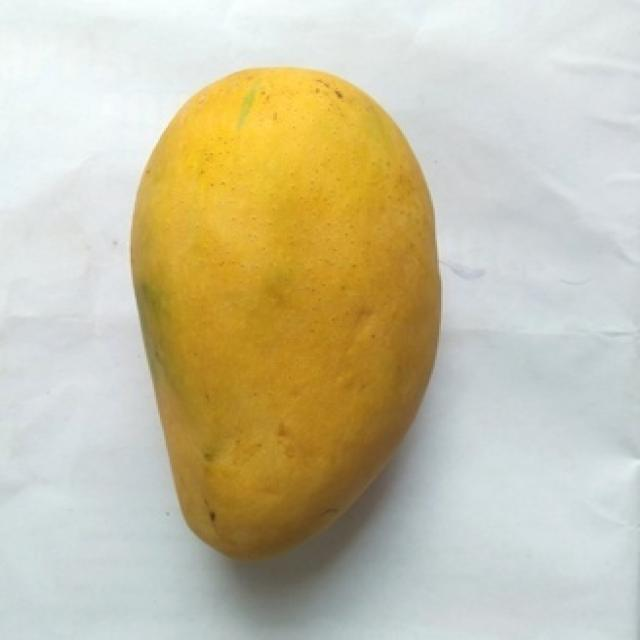Mango: (133, 69, 439, 555)
